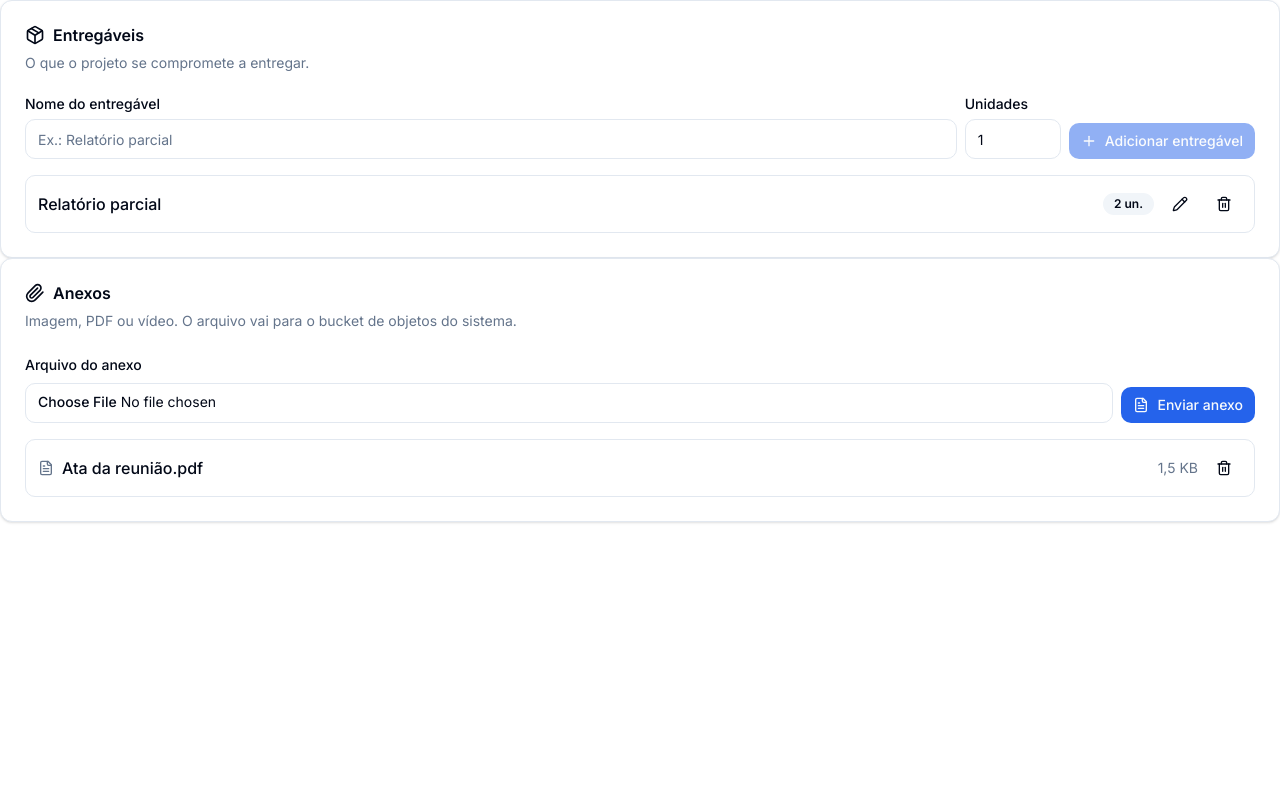
Test: painel de entregáveis › 403 do servidor vira aviso na tela e a linha NÃO entra na lista
Check: the text "Relatório parcial" is shown, box top-left (38, 194), bottom-right (161, 214)
Step 1. Type "Slides" into the field labelled "Nome do entregável" → {"x": 491, "y": 139}, box top-left (25, 119), bottom-right (957, 159)
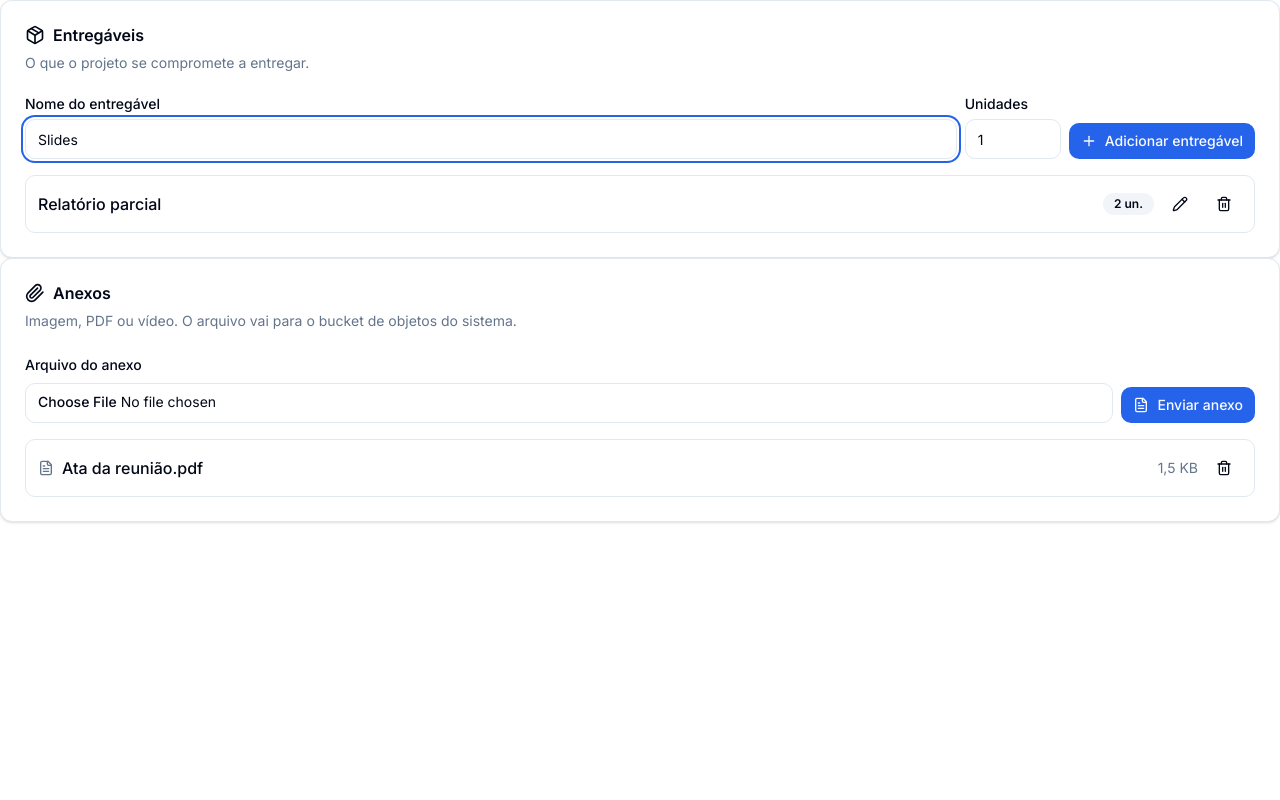
Step 2. Click the button "Adicionar entregável" → {"x": 1162, "y": 141}, box top-left (1069, 123), bottom-right (1255, 159)
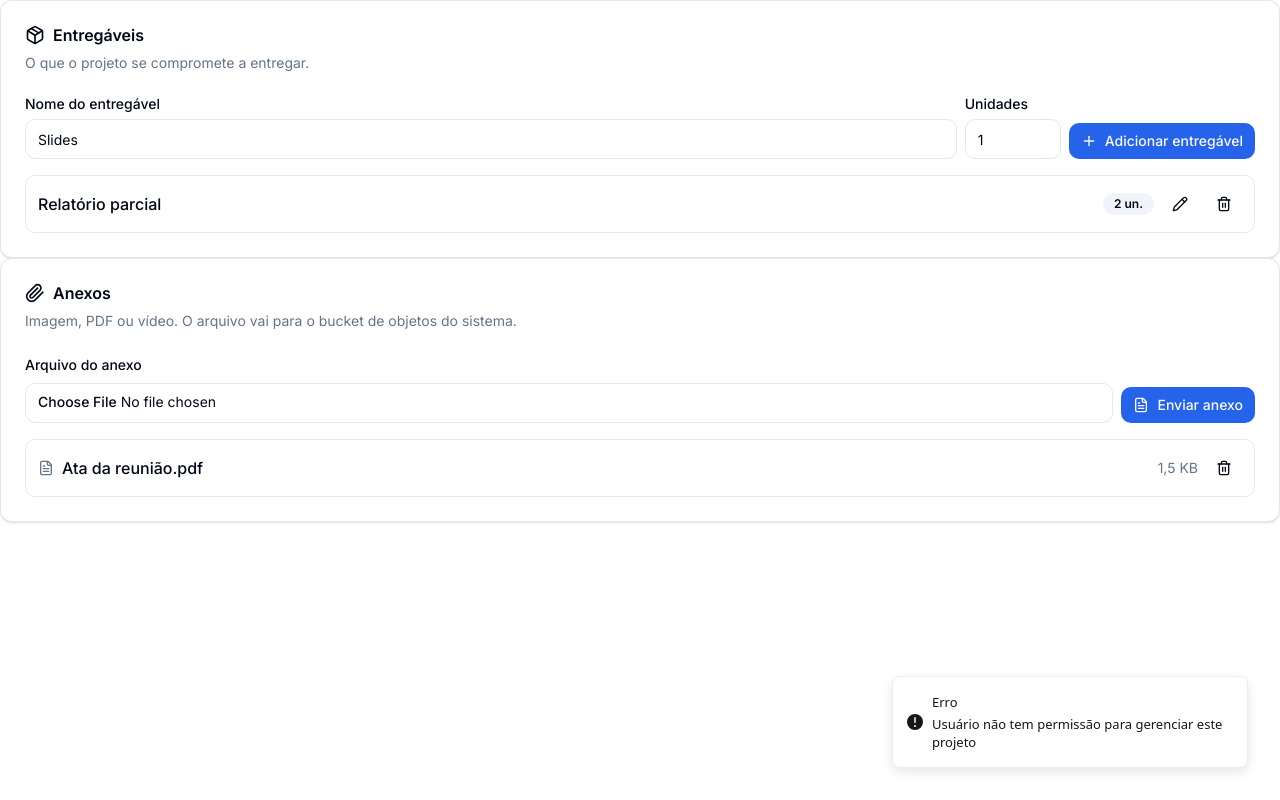
Check: the text "Usuário não tem permissão para gerenciar este projeto" is shown, box top-left (932, 715), bottom-right (1231, 751)
